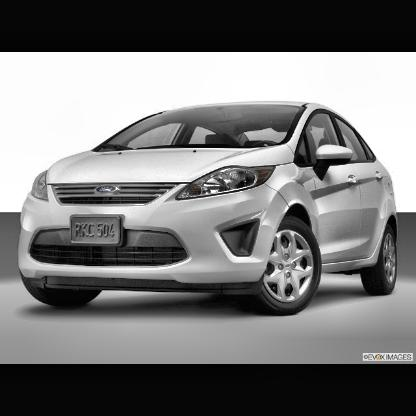Ford Fiesta Sedan 2012: (18, 101, 402, 320)
